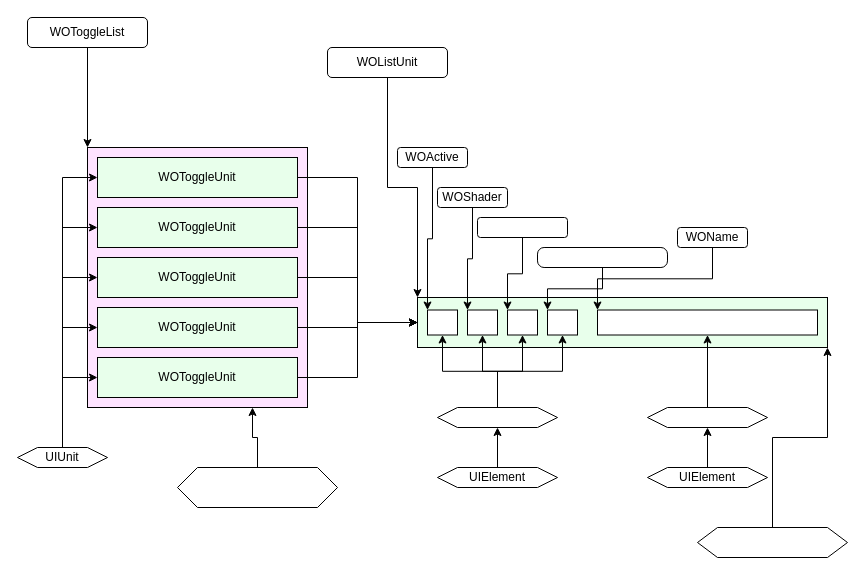
This 865x575 diagram has some shape labels left out. The shapes that lost their labels are listed below. From the top down, each one's centre as x and y in pixels, then its label:
At pixel 522 227: "WORigidbody".
At pixel 602 257: "WOParentTransform".
At pixel 497 417: "Toggles".
At pixel 707 417: "String/Input".
At pixel 257 487: "UIModule + UIPrimitive".
At pixel 772 542: "UIUnit + UIPrimitive".
